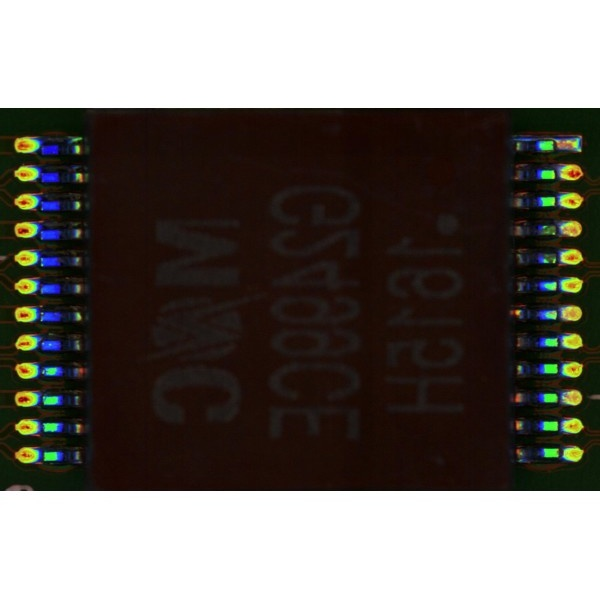Bad_podu: (546, 140, 565, 149)
